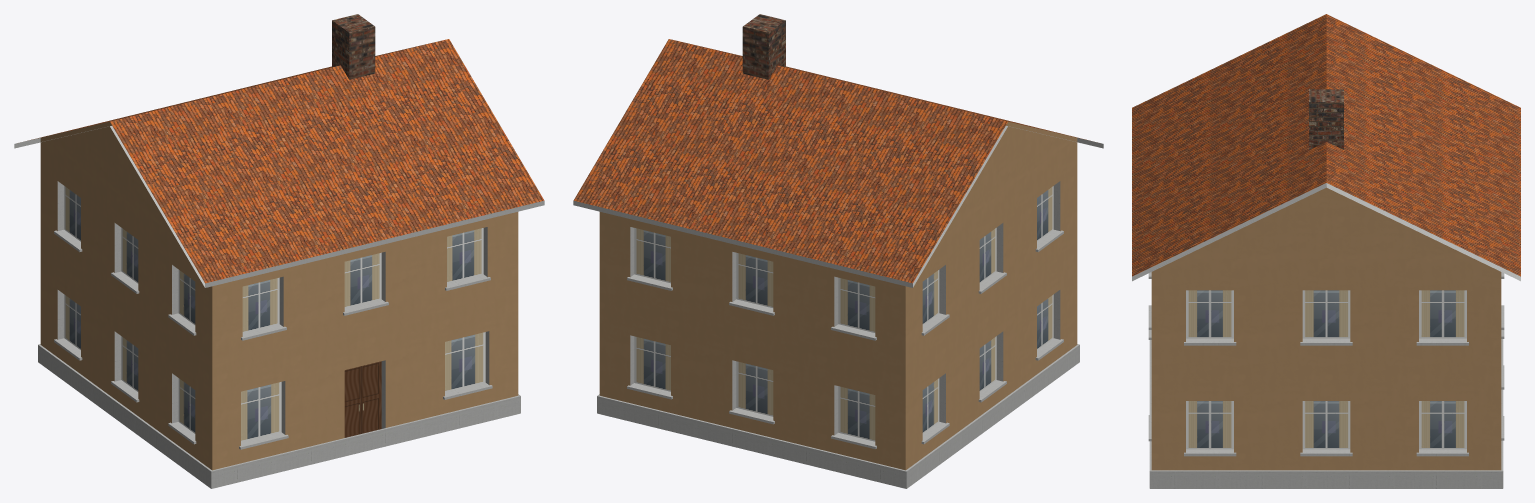
The model's file is edificio_04_casa_tejado.glb.
3 renders of one model, left to right at view 1: azimuth 30°, elevation 25°; view 2: azimuth 150°, elevation 25°; view 3: azimuth 270°, elevation 25°, orthographic.
Parts seen in each view (by area): view 1: EB04_casa_tejado; view 2: EB04_casa_tejado; view 3: EB04_casa_tejado.
Part boxes in pixels (<box>): EB04_casa_tejado: <box>14,14,544,488</box>; EB04_casa_tejado: <box>573,14,1103,488</box>; EB04_casa_tejado: <box>1132,14,1520,488</box>.
Size of the model in its own units: 9.16 by 8.93 by 8.91.
Materials: 5 (5 with a texture image).
